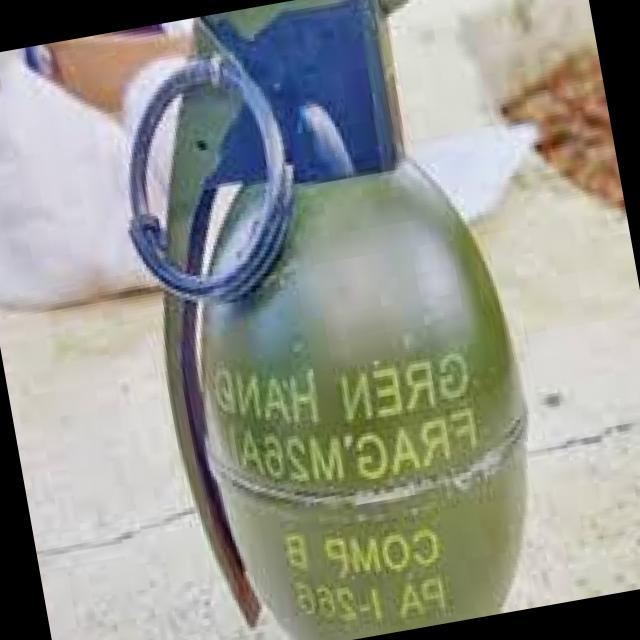grenade: (105, 0, 581, 640)
